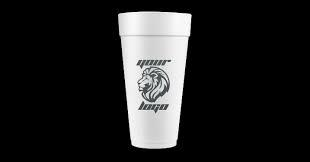Plastic cup: (106, 9, 210, 149)
